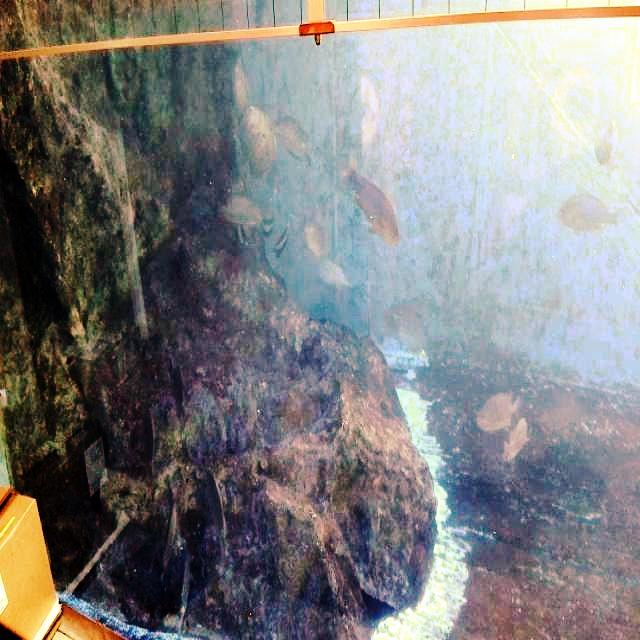angelfish: (272, 218, 294, 264), (232, 220, 255, 256), (260, 207, 276, 238)
gold snapper: (338, 166, 413, 253), (464, 373, 522, 430), (501, 414, 538, 470)
